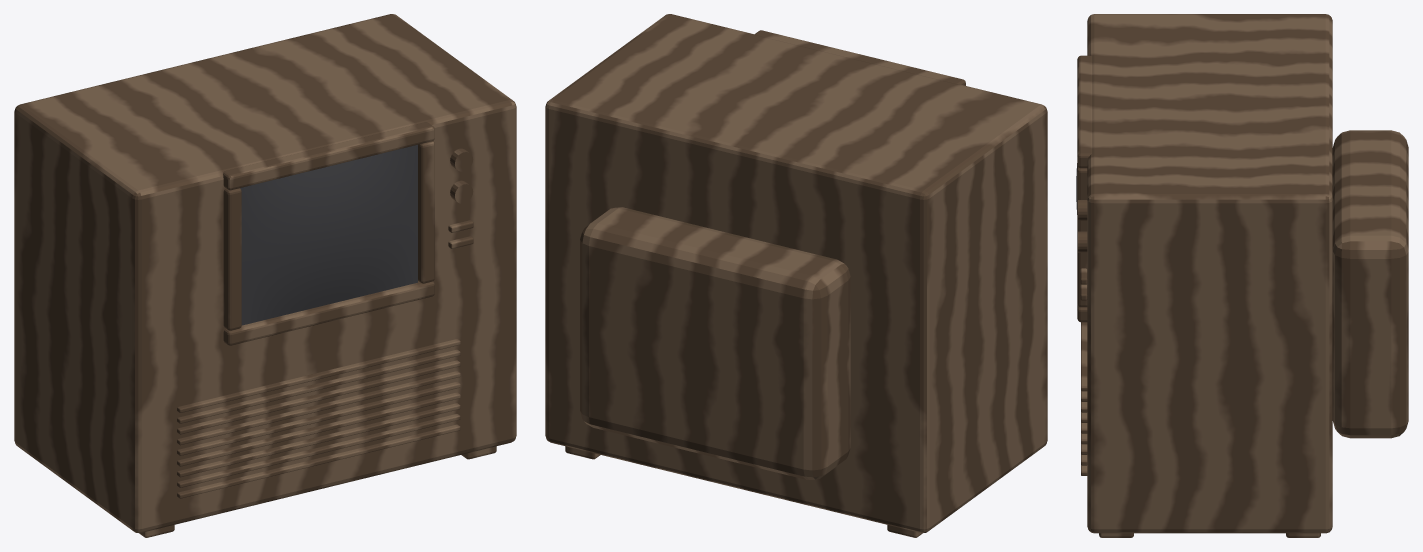
File: PRP_CRTTV_Intact.fbx
3 views of the same model, side by side, from view 1: azimuth 30°, elevation 25°; view 2: azimuth 150°, elevation 25°; view 3: azimuth 270°, elevation 25° (orthographic).
Parts seen in each view (by area): view 1: TV_Shell, TV_Screen; view 2: TV_Shell; view 3: TV_Shell.
Part boxes in pixels (x1,y1,x2,y2): TV_Shell: (14, 14, 516, 537); TV_Screen: (240, 145, 417, 325); TV_Shell: (545, 14, 1047, 537); TV_Shell: (1077, 14, 1408, 537).
Size of the model in its own units: 75 by 66 by 56.9.
